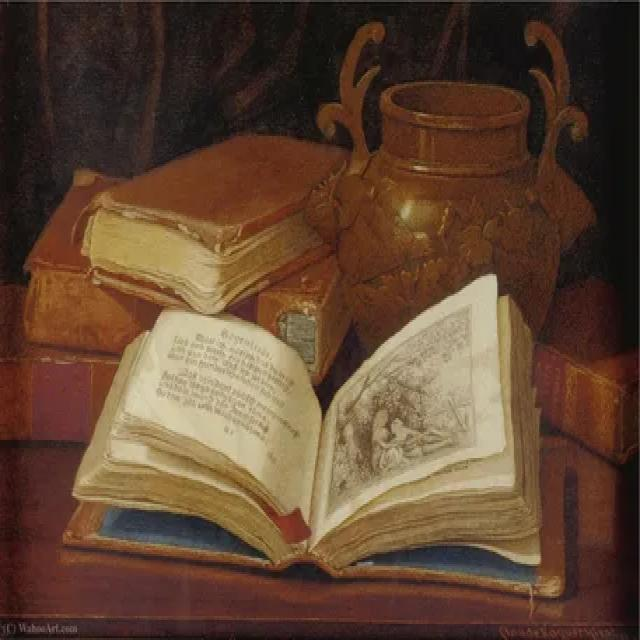book: (56, 271, 568, 614)
